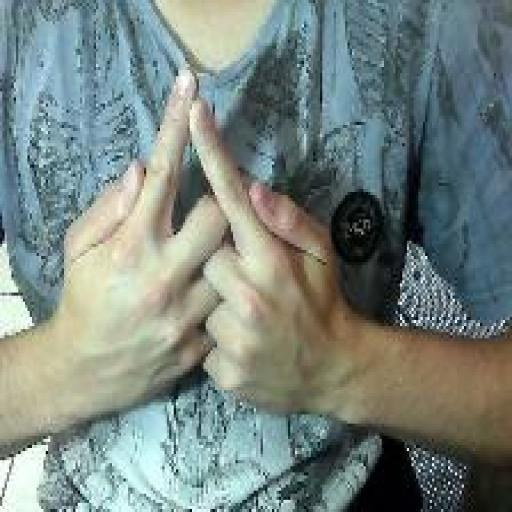Uma -horse-: (56, 63, 344, 425)
